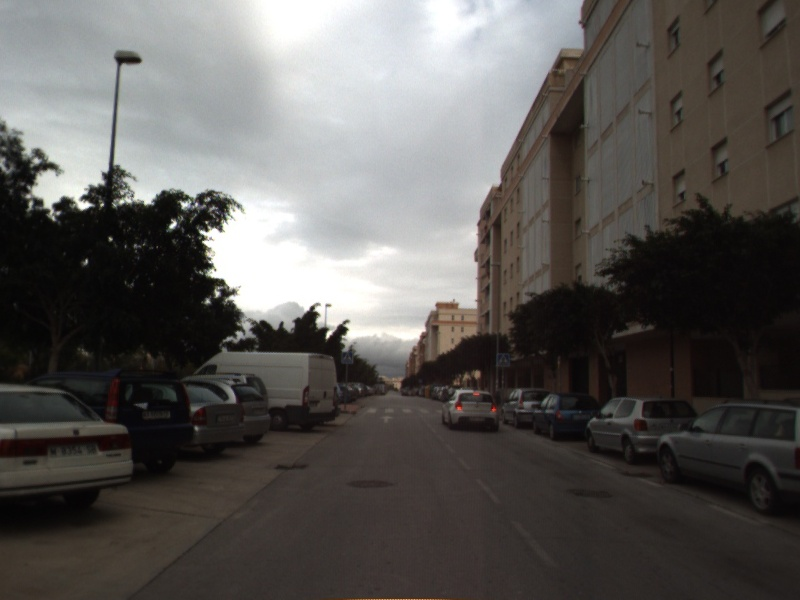STRAIGHT: (377, 414, 396, 425)
